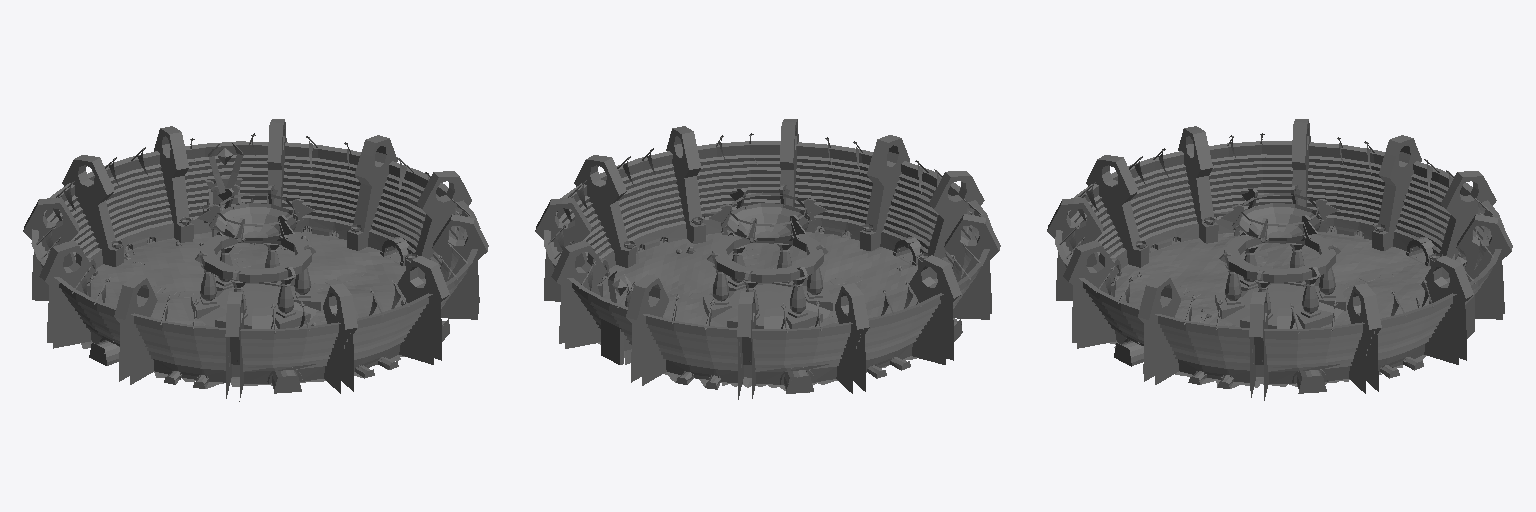
File: Stadium.obj
The picture shows the model from 3 angles: view 1: azimuth 30°, elevation 25°; view 2: azimuth 150°, elevation 25°; view 3: azimuth 270°, elevation 25°; orthographic projection.
Parts seen in each view (by area): view 1: DrawCall_87.001; view 2: DrawCall_87.001; view 3: DrawCall_87.001.
Boxes of the visible parts, <box> form: DrawCall_87.001: <box>23,119,488,401</box>; DrawCall_87.001: <box>535,119,1000,399</box>; DrawCall_87.001: <box>1047,119,1512,400</box>.
Bounding box in the file's own units: 1038 × 264 × 1034.